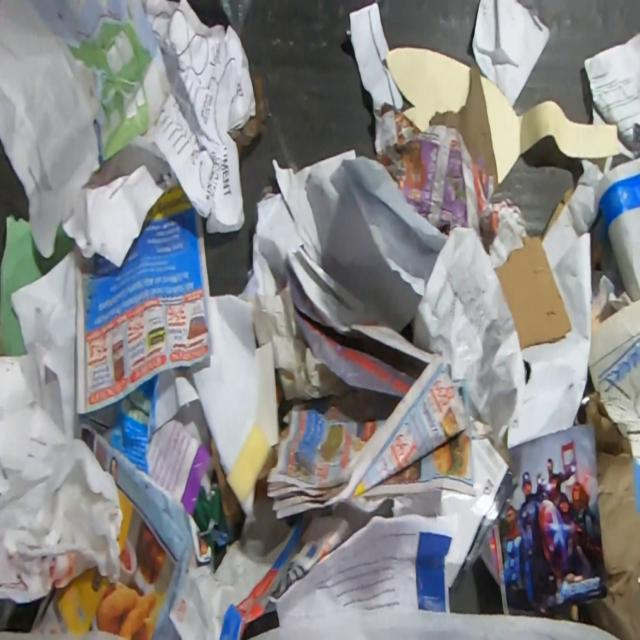cardboard: (584, 389, 640, 640), (493, 234, 573, 350)
